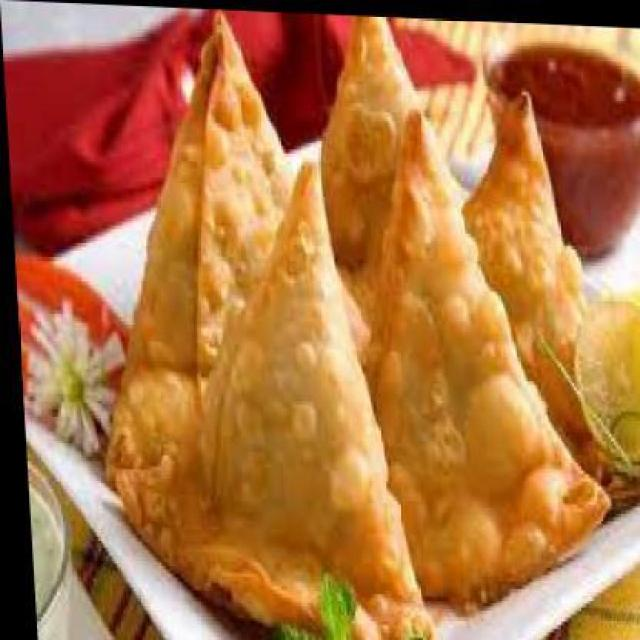samosa: (94, 147, 428, 640), (81, 3, 374, 502), (338, 104, 611, 618), (454, 83, 640, 505), (310, 11, 462, 366)
